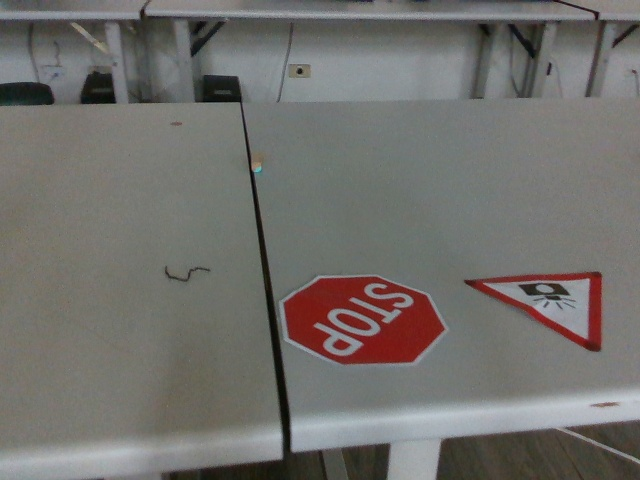camera: (466, 273, 611, 353)
stop: (279, 272, 451, 365)
